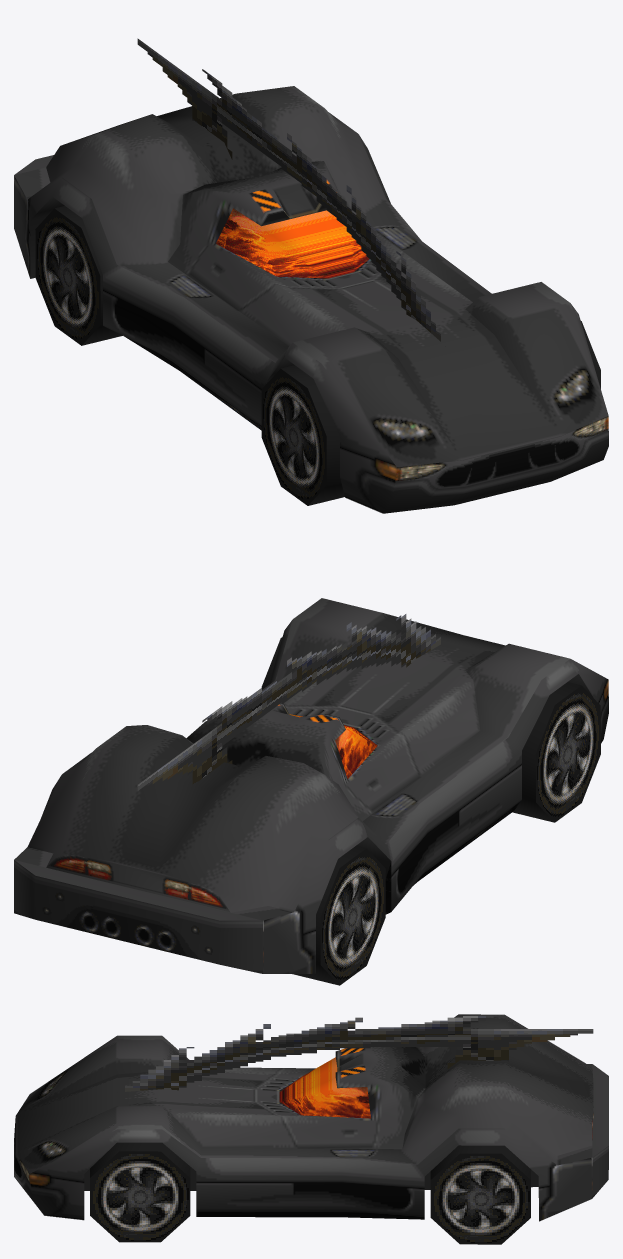
The model's file is EAGBLAK.dae.
3 views of the same model, one above another, from view 1: azimuth 30°, elevation 25°; view 2: azimuth 150°, elevation 25°; view 3: azimuth 270°, elevation 25° (orthographic). The views are drawn at different scales.
Visible parts, largest first — view 1: EAGBLAK.DAT, WHEEL.DAT.003, WHEEL.DAT.001; view 2: EAGBLAK.DAT, WHEEL.DAT.003, WHEEL.DAT.001; view 3: EAGBLAK.DAT, WHEEL.DAT.002, WHEEL.DAT.
Part boxes in pixels (left/top/right/bottom): EAGBLAK.DAT: left=14, top=38, right=608, bottom=513; WHEEL.DAT.003: left=261, top=365, right=344, bottom=505; WHEEL.DAT.001: left=35, top=206, right=122, bottom=345; EAGBLAK.DAT: left=14, top=598, right=608, bottom=973; WHEEL.DAT.003: left=512, top=682, right=600, bottom=822; WHEEL.DAT.001: left=292, top=845, right=385, bottom=985; EAGBLAK.DAT: left=14, top=1014, right=608, bottom=1221; WHEEL.DAT.002: left=90, top=1142, right=190, bottom=1242; WHEEL.DAT: left=430, top=1145, right=530, bottom=1244.
Size of the model in its own units: 0.3614 by 0.8365 by 0.2713.
9 materials, 9 textured.
